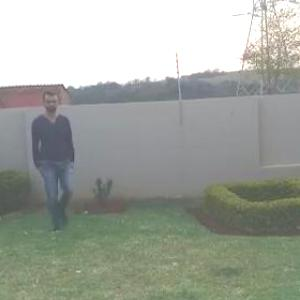follow: (33, 97, 85, 214)
